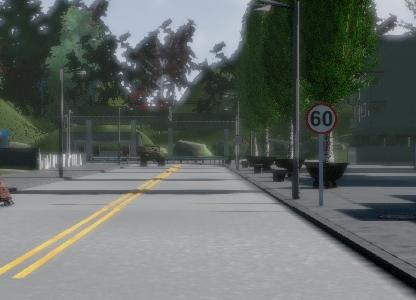Speed_60: (303, 101, 338, 139)
